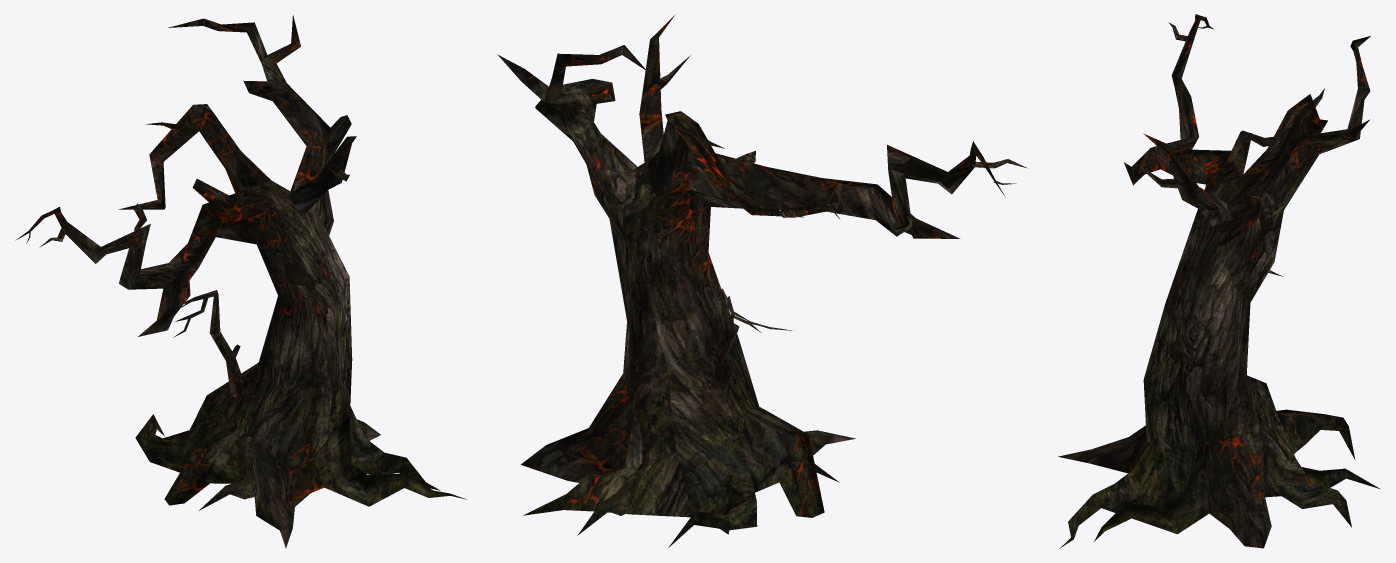
Rendered from Tree_02.FBX.
3 views of the same model, side by side, from view 1: azimuth 30°, elevation 25°; view 2: azimuth 150°, elevation 25°; view 3: azimuth 270°, elevation 25° (orthographic). The views are drawn at different scales.
Parts seen in each view (by area): view 1: TN_002aFBXASC046obj; view 2: TN_002aFBXASC046obj; view 3: TN_002aFBXASC046obj.
Part boxes in pixels (x1,y1,x2,y2): TN_002aFBXASC046obj: (15,15,466,548); TN_002aFBXASC046obj: (497,14,1027,547); TN_002aFBXASC046obj: (1058,14,1379,548).
Bounding box in the file's own units: 605 × 629 × 415.
